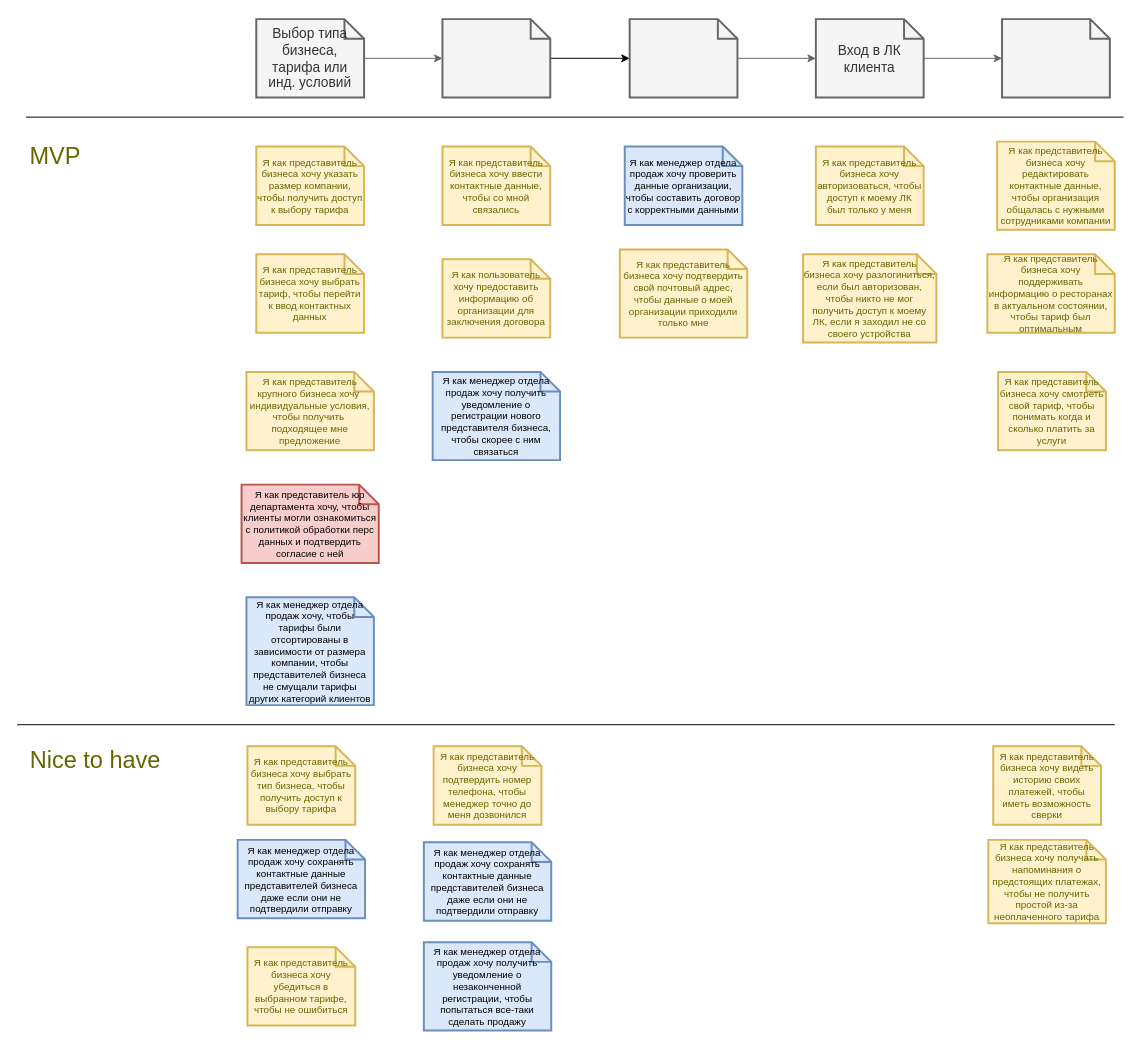
This 1142x1048 diagram has some shape labels left out. The centre of each missing label's shape, as x and y in pixels:
Активация ЛК клиента: [683,58]
Ввод контактных данных и информации о компании: [496,58]
Редактирование контактных данных в ЛК: [1055,58]
